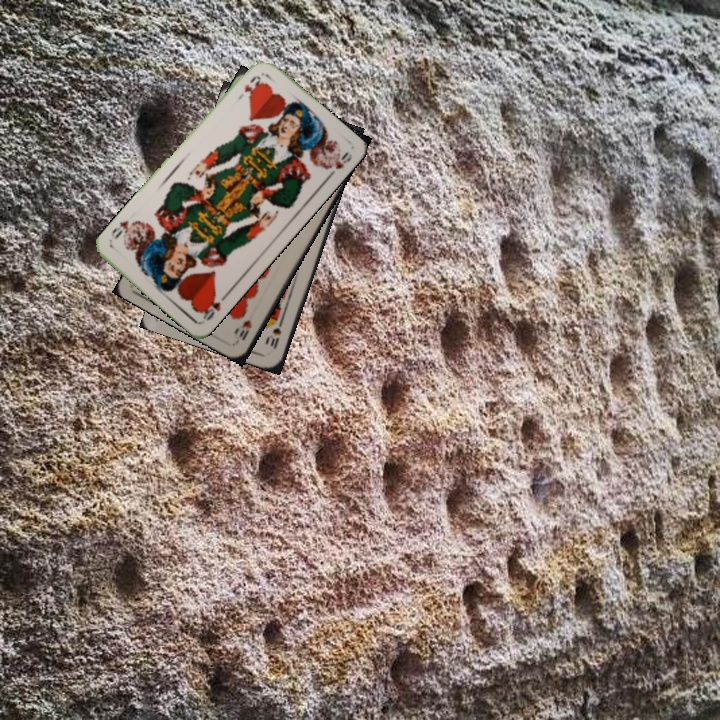H10: (235, 316, 255, 343)
HO: (197, 290, 229, 324), (232, 71, 264, 103)
S10: (266, 315, 286, 352)
